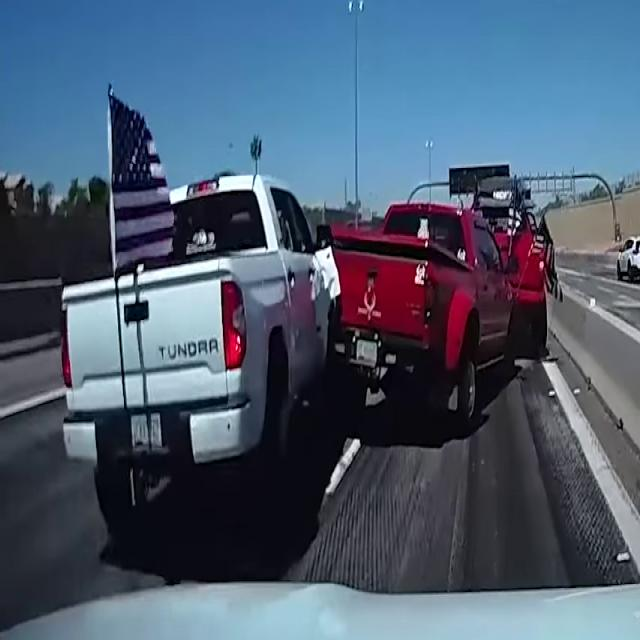accident: (238, 145, 434, 438)
